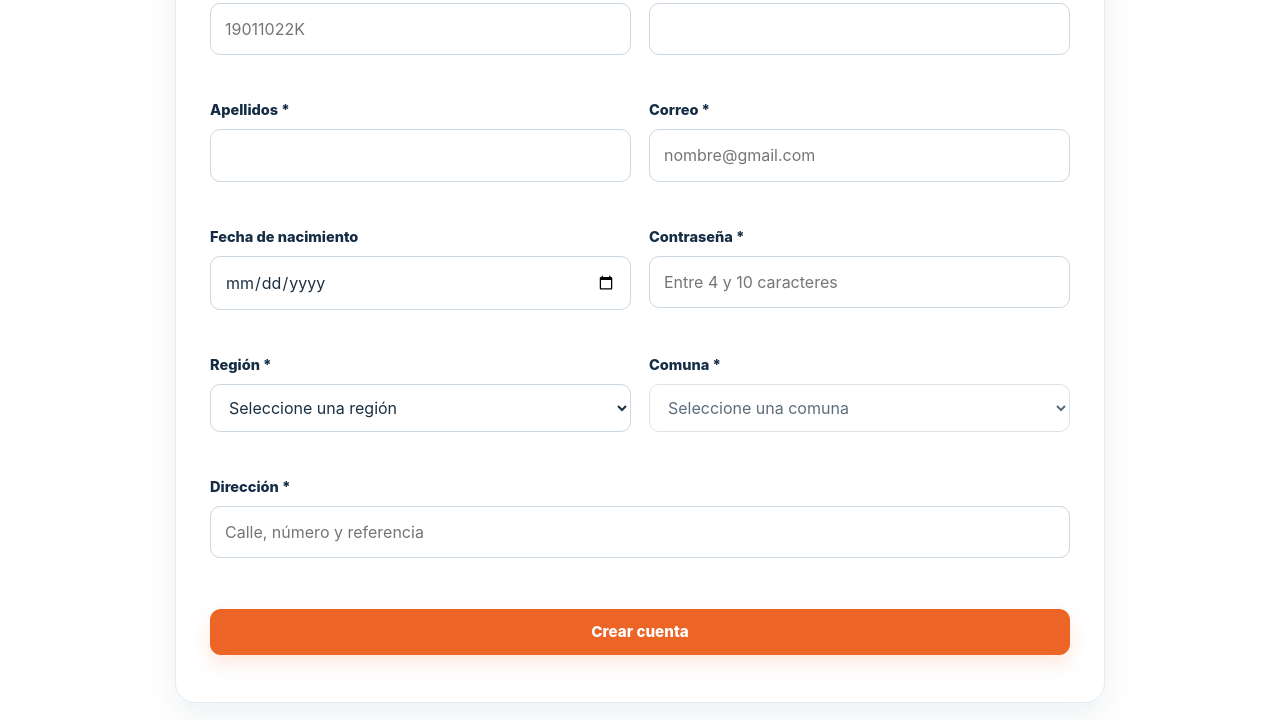
Test case: Registro › habilita las comunas de la región seleccionada
(page scrolled)
Expected: the dropdown labelled "Comuna *" is disabled, x1=649 y1=384 x2=1070 y2=432
Select "Ñuble" in the dropdown labelled "Región *" at (420, 408), box x1=210 y1=384 x2=631 y2=432
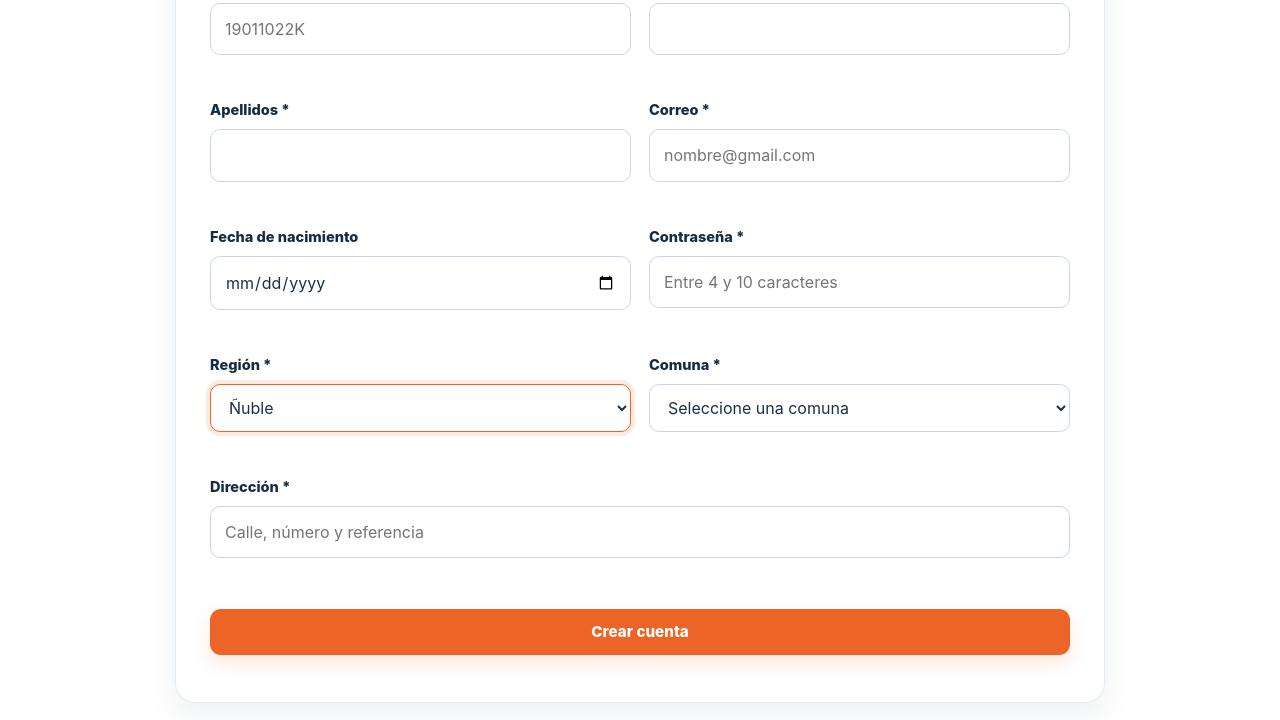
Expected: the dropdown labelled "Comuna *" is enabled, x1=649 y1=384 x2=1070 y2=432
